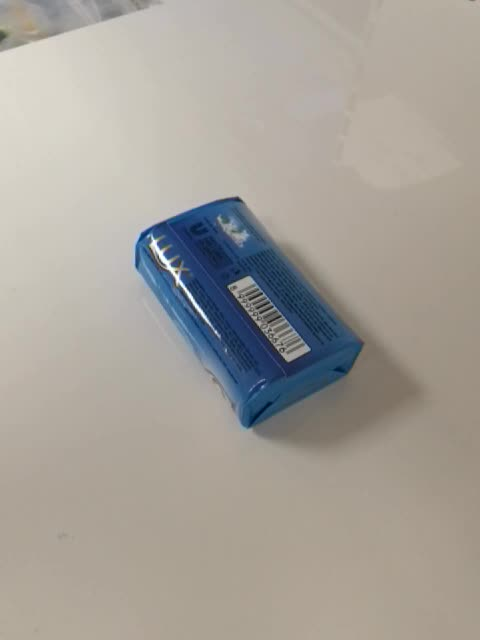soap: (132, 194, 366, 430)
